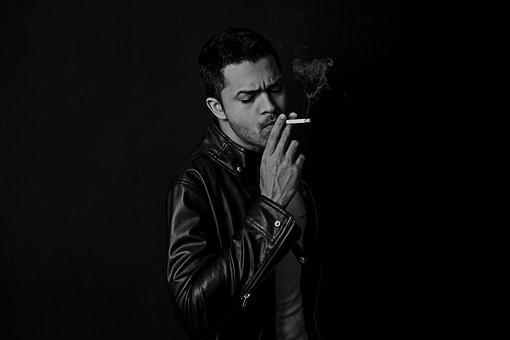sigaretta: (278, 116, 317, 129)
